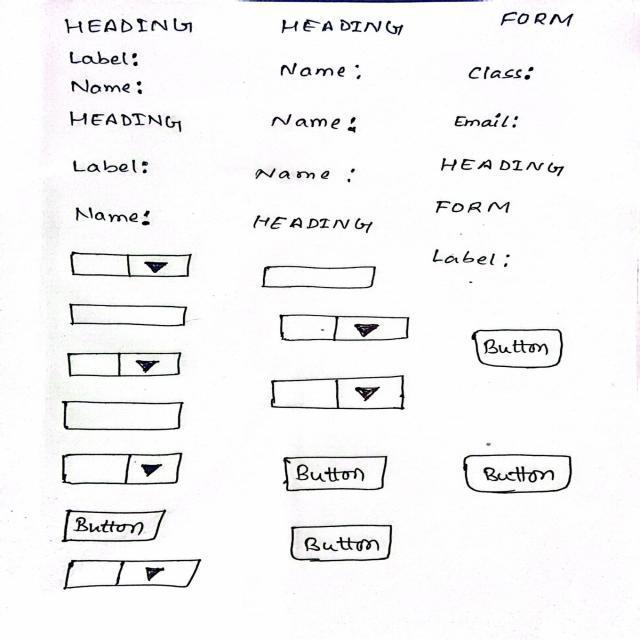textbox: (61, 297, 193, 336), (56, 397, 189, 433), (254, 261, 384, 294)
